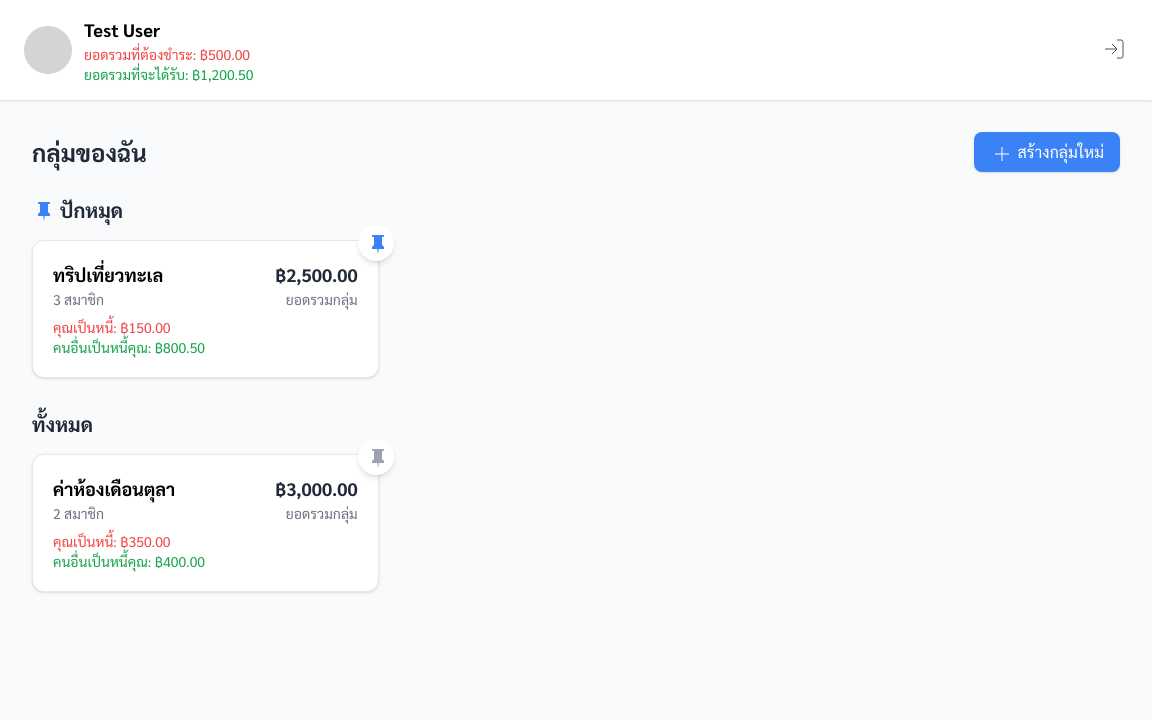
it: 2. Dashboard Flow › ควรนำทางไปหน้า Create Group
The image size is (1152, 720).
# Act: คลิกปุ่ม
Click the link "สร้างกลุ่มใหม่". click: (1047,152)
box: [974,132,1120,172]
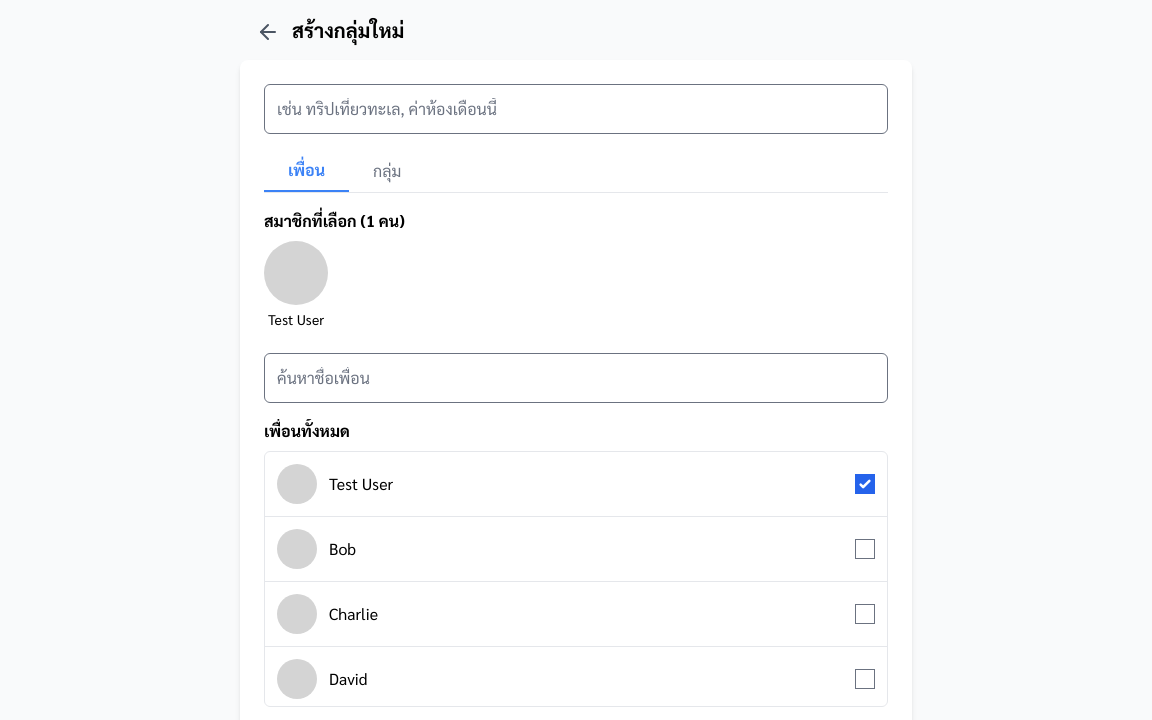
Result: the heading "สมาชิกที่เลือก (1 คน)" is shown at [264,210,405,231]
